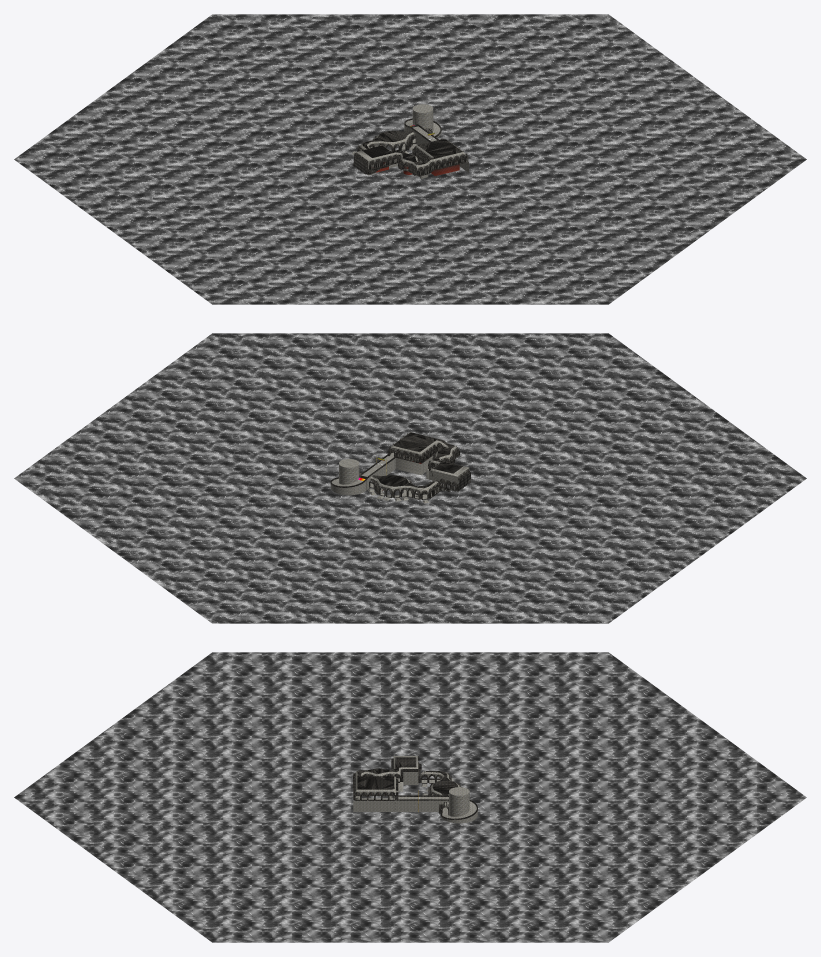
The picture shows the model from 3 angles, top to bottom: view 1: azimuth 30°, elevation 25°; view 2: azimuth 150°, elevation 25°; view 3: azimuth 270°, elevation 25°; orthographic projection.
Parts seen in each view (by area): view 1: course.004, course.005, course.002; view 2: course.004, course.005, course.002; view 3: course.004, course.002, course.005.
Boxes of the visible parts, x1,y1,x2,y2 form: course.004: (14, 14, 806, 304); course.005: (353, 118, 468, 176); course.002: (351, 104, 468, 178); course.004: (14, 333, 806, 623); course.005: (330, 432, 470, 499); course.002: (330, 432, 469, 503); course.004: (14, 652, 806, 942); course.002: (353, 755, 477, 823); course.005: (353, 756, 477, 819).
Bounding box in the file's own units: 387979 × 28229 × 448000.
7 materials, 7 textured.
